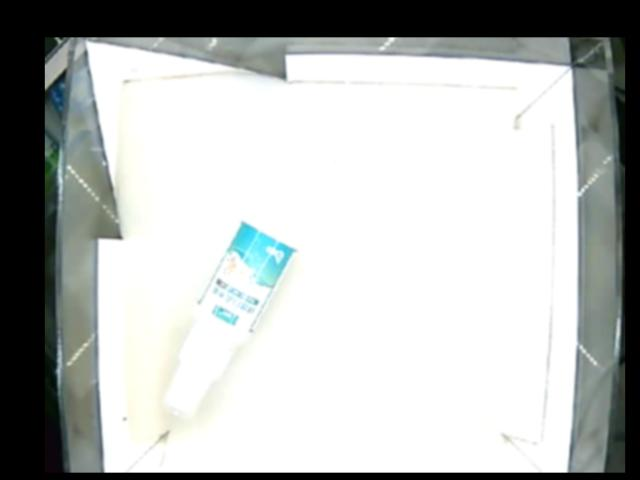Bottle: (160, 214, 297, 421)
